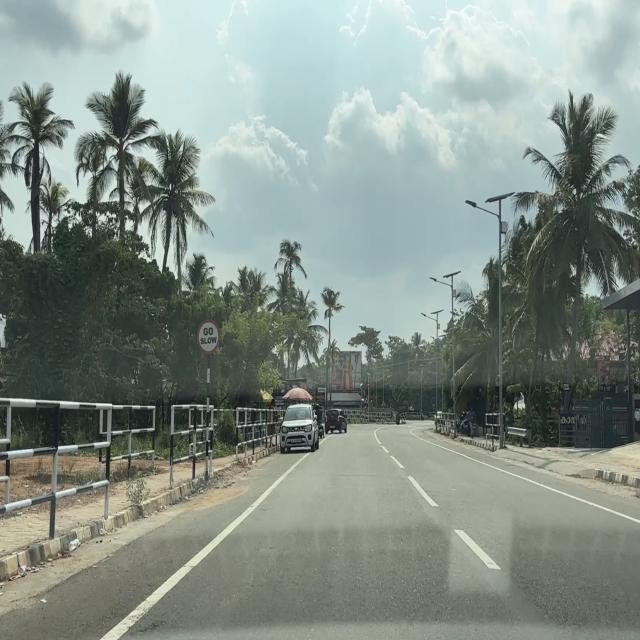GO_SLOW: (195, 316, 222, 355)
